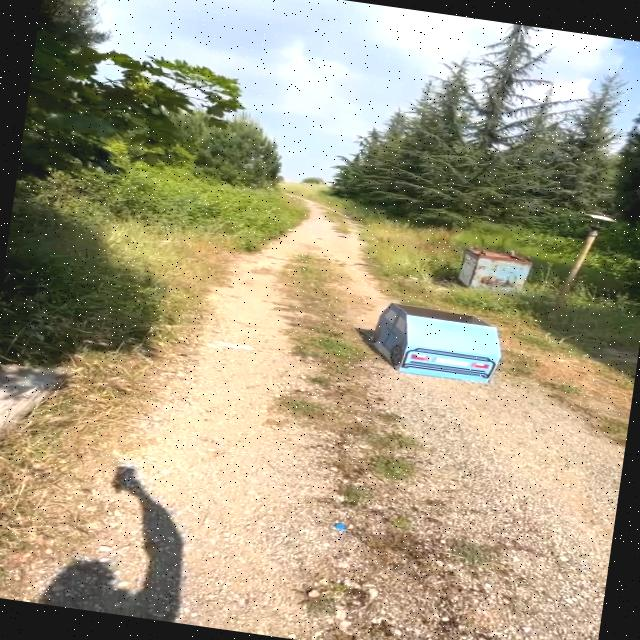blue_car: (343, 287, 538, 403)
